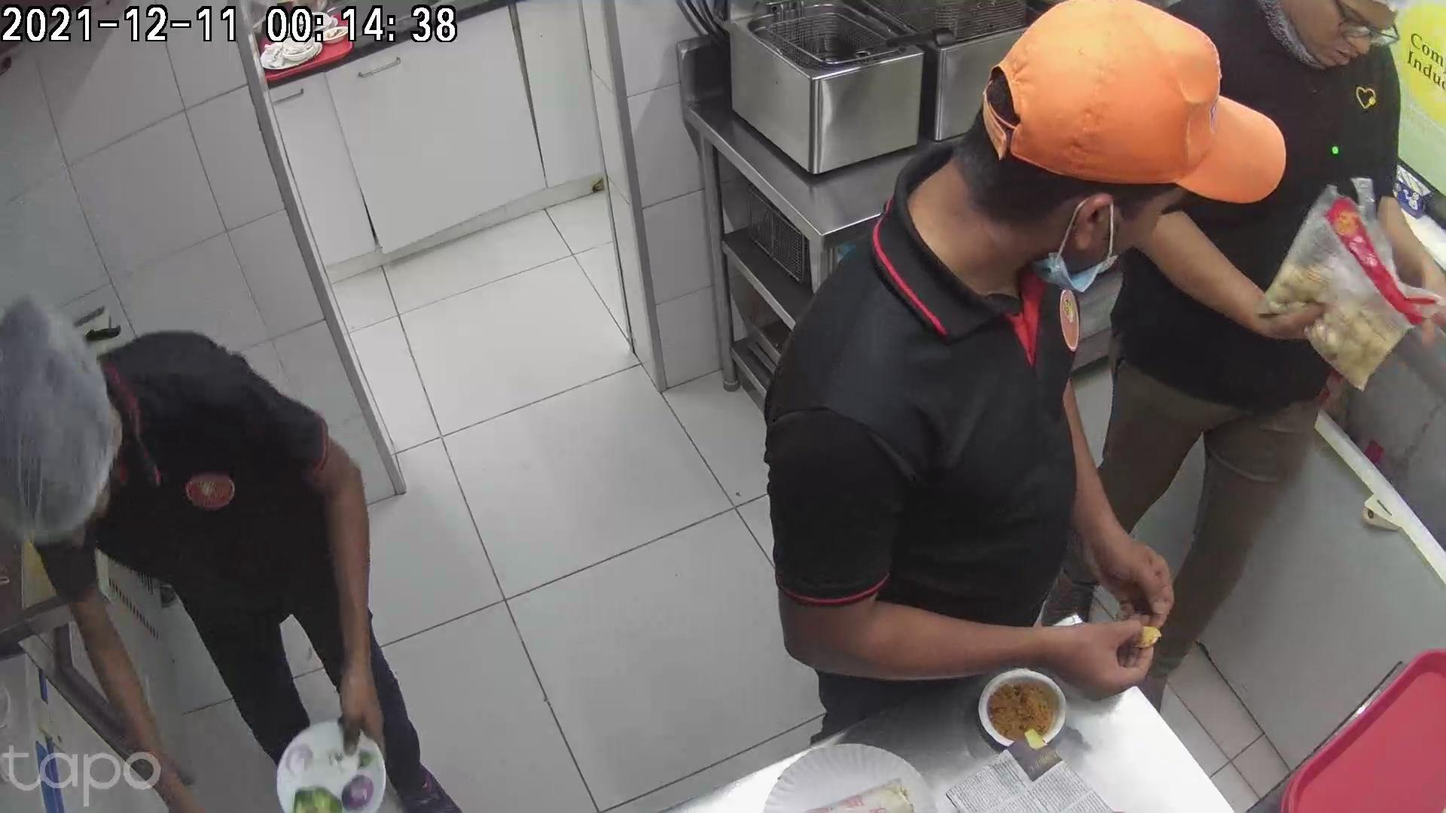gloves: (871, 622, 995, 746)
no_gloves: (1032, 588, 1118, 719)
